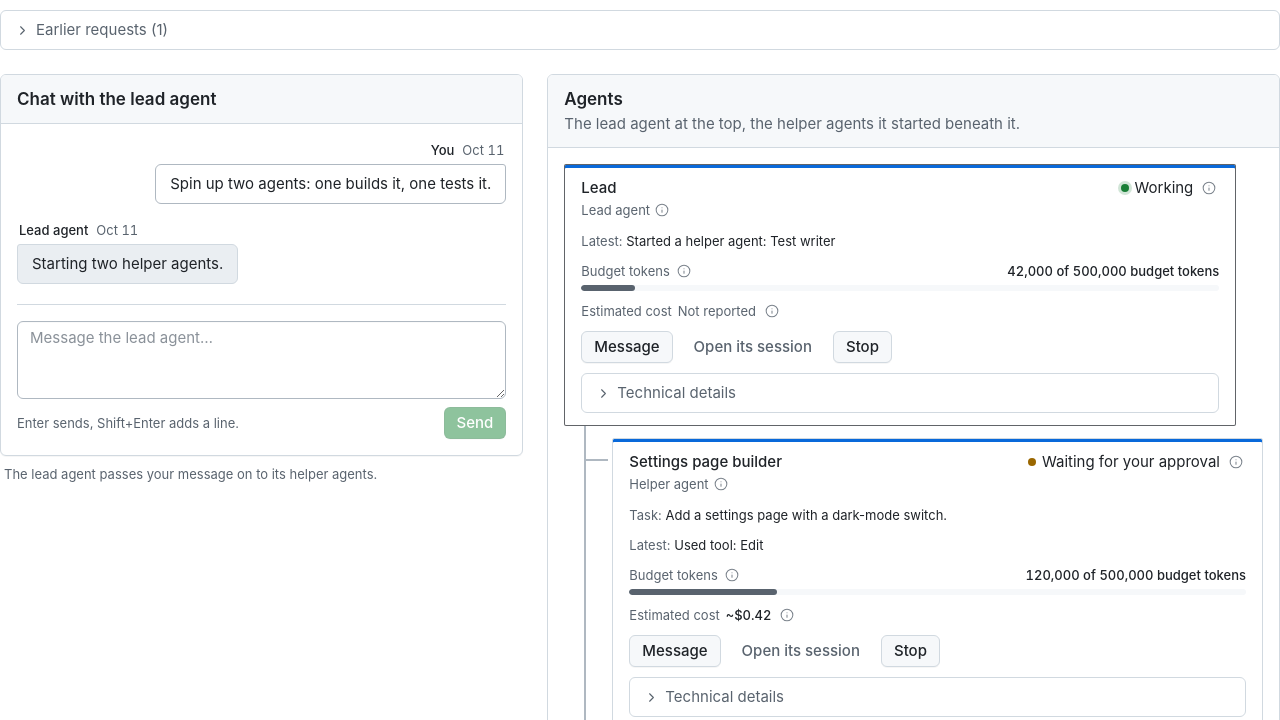
Test: control panel: a run › keeps the draft and explains when a message is refused
(page scrolled)
In the text box named "Message to the lead agent": (262, 360) top-left (17, 321), bottom-right (506, 399), type "Hello?"
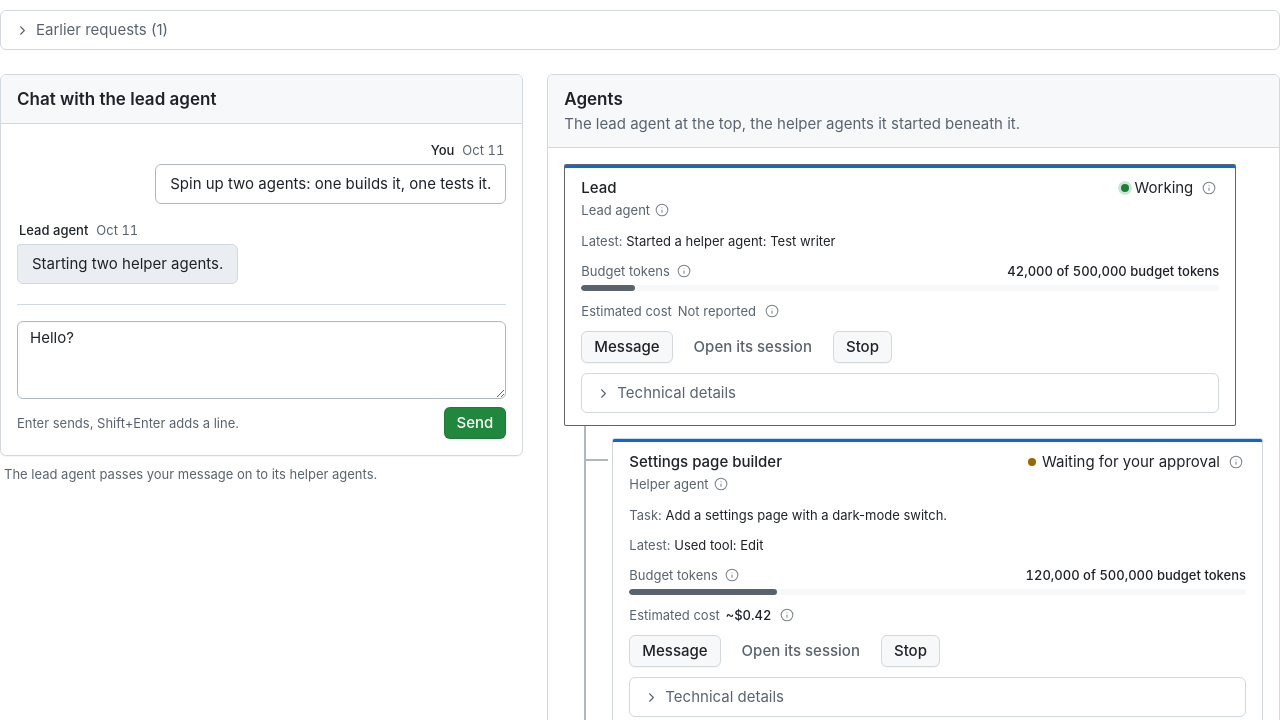
Click the button "Send": click(475, 423) top-left (444, 407), bottom-right (506, 439)
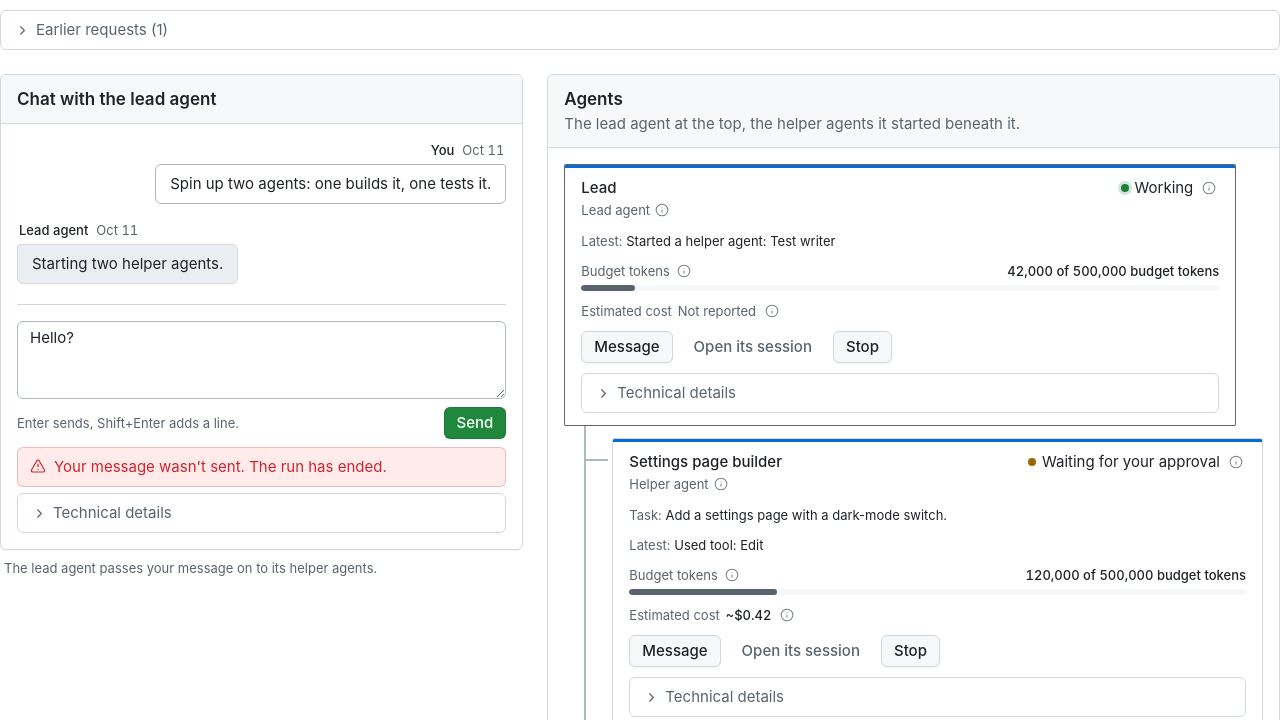
Expected: the text "Your message wasn't sent. The run has ended." is shown, top-left (54, 456), bottom-right (387, 478)
